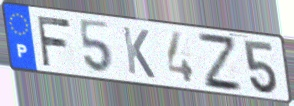4: (166, 30, 196, 86)
5: (76, 17, 116, 77), (241, 38, 279, 96)
F: (34, 13, 73, 68)
K: (120, 24, 158, 81)
Z: (195, 30, 245, 94)
